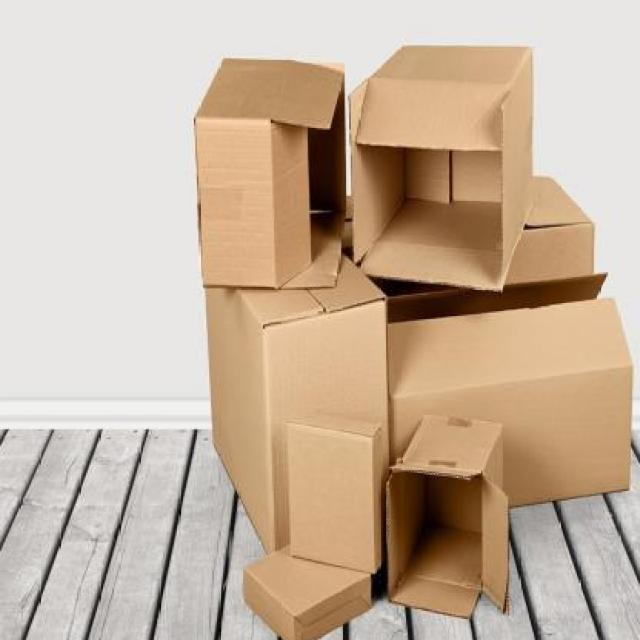box: (379, 298, 639, 536), (192, 261, 391, 565), (345, 34, 557, 311), (190, 54, 358, 304), (385, 400, 532, 640), (228, 518, 389, 640), (290, 404, 378, 589), (512, 158, 599, 286)
